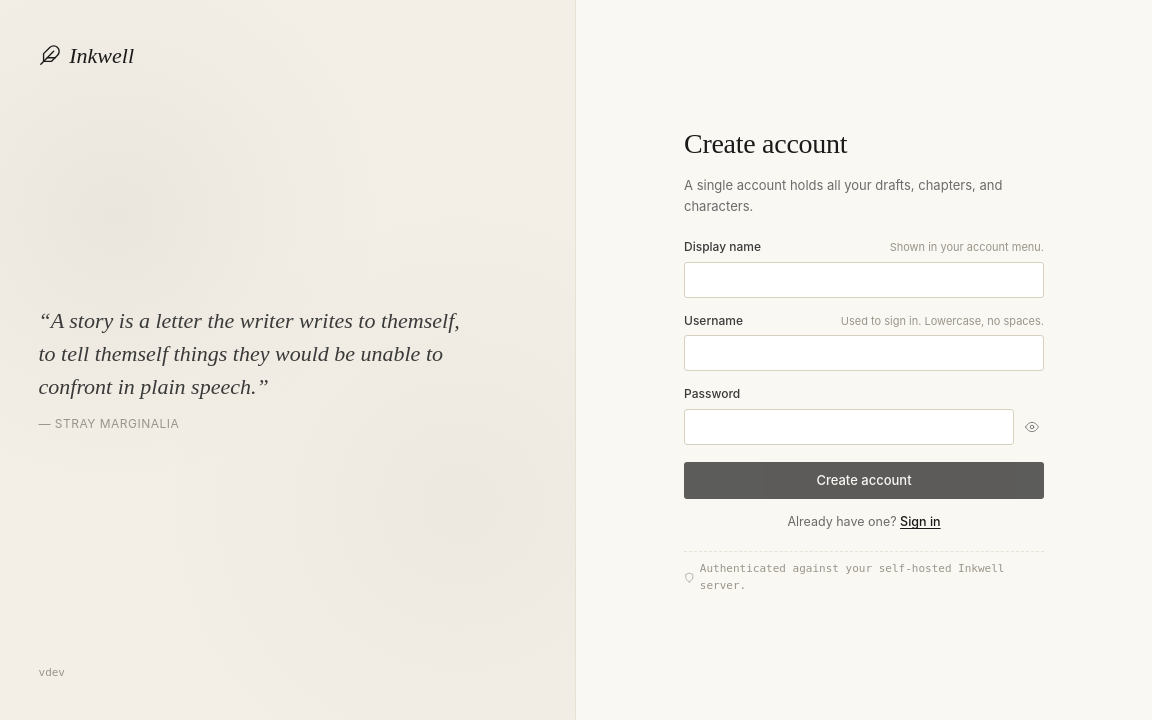
Test case: AuthForm register › register: blocks submit until display name, username, and password are valid
This screenshot has width=1152, height=720.
Expected: the button "Create account" is disabled, [684,462,1044,499]
Type "someuser" into the field labelled "Username Used to sign in. Lowercase, no spaces." at (864, 353), box [684,335,1044,371]
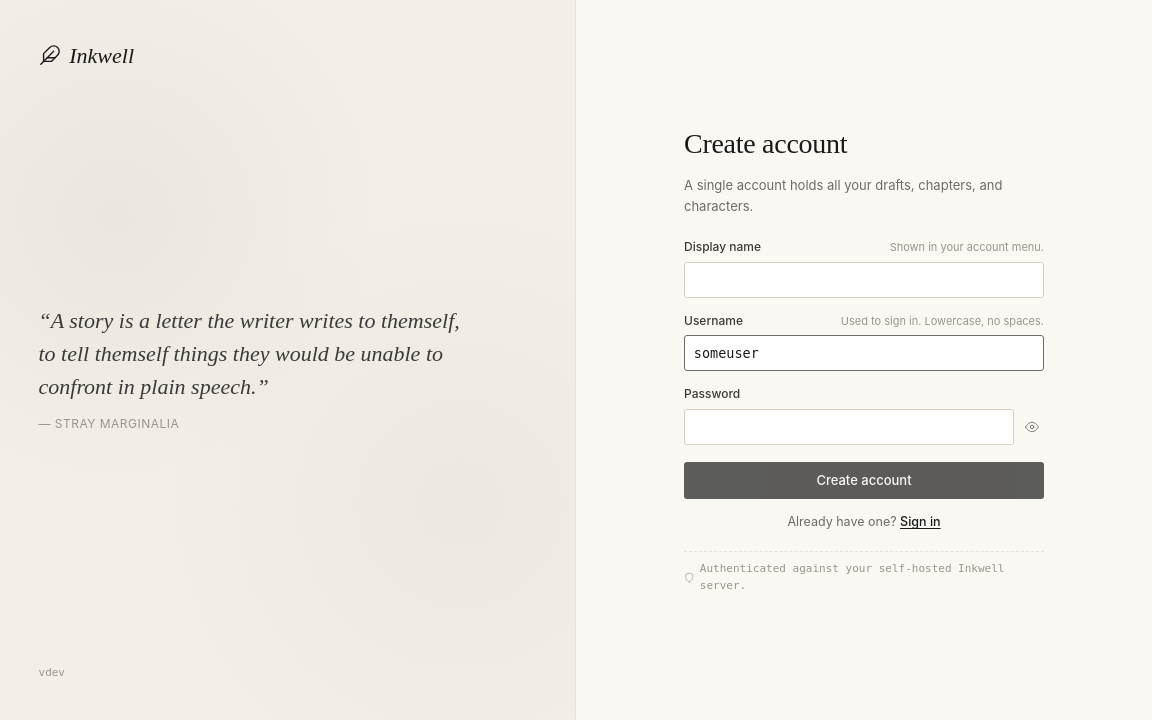
Type "pw-long-enough" into the password field labelled "Password" at (849, 427), box [684,408,1014,445]
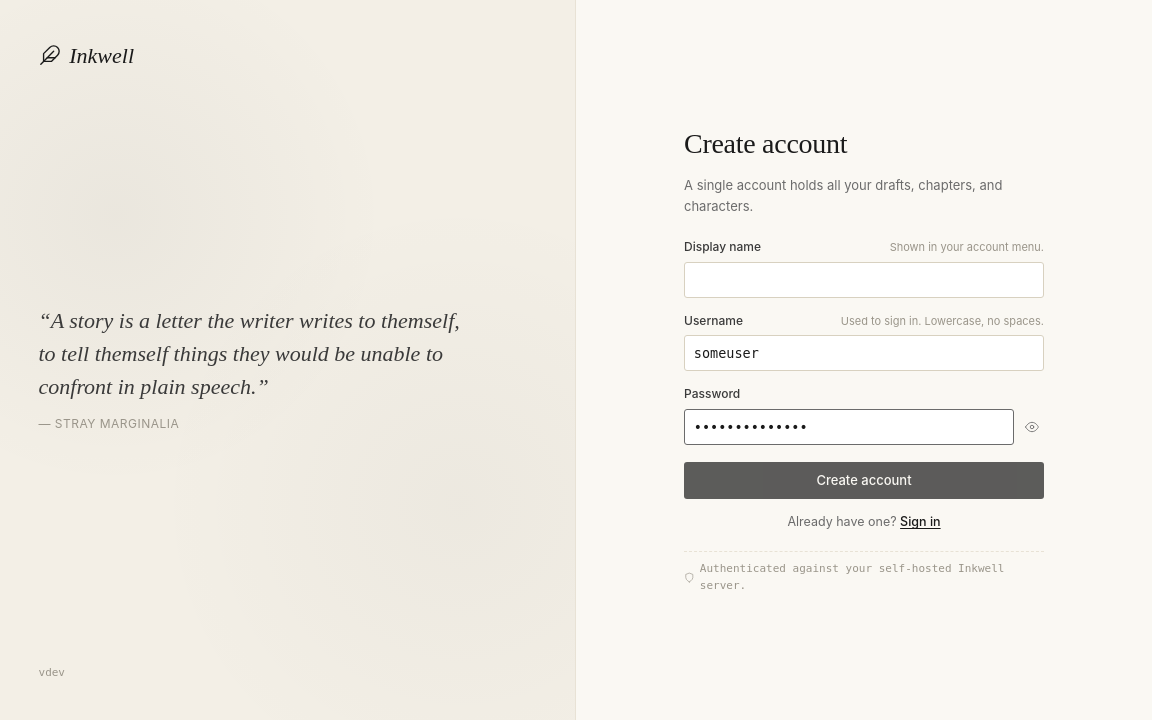
Expected: the button "Create account" is disabled, [684,462,1044,499]
Type "Display Name" into the field labelled "Display name Shown in your account menu." at (864, 280), box [684,262,1044,298]
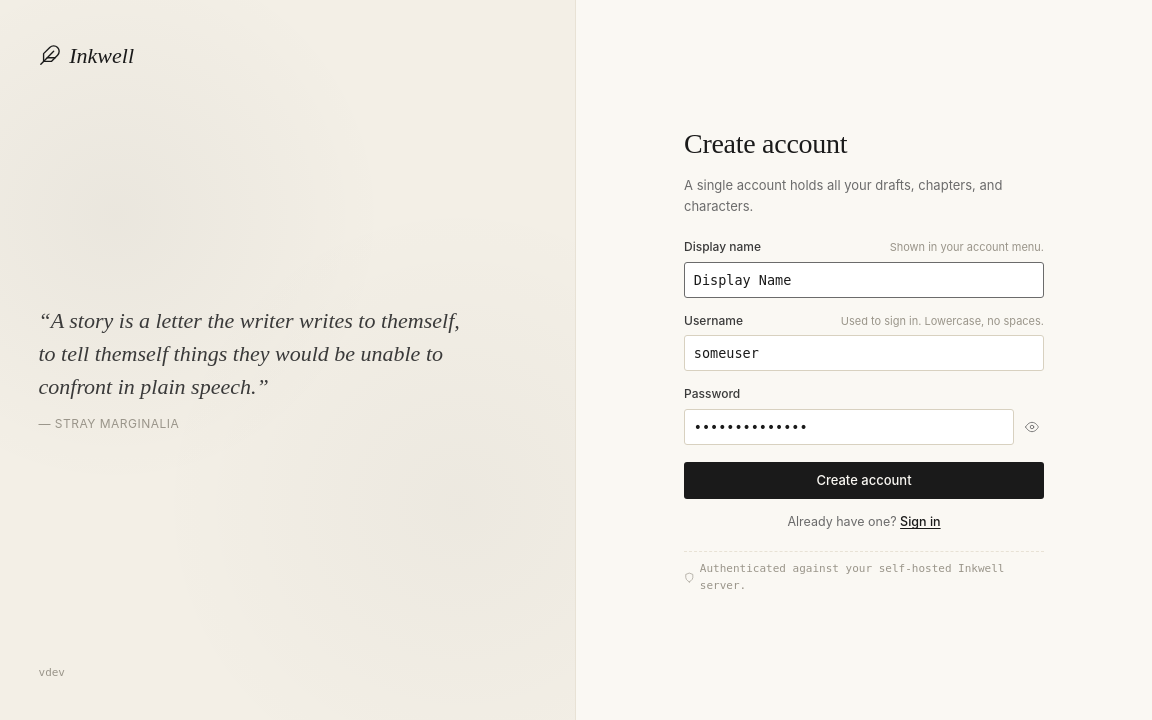
Expected: the button "Create account" is enabled, [684,462,1044,499]
